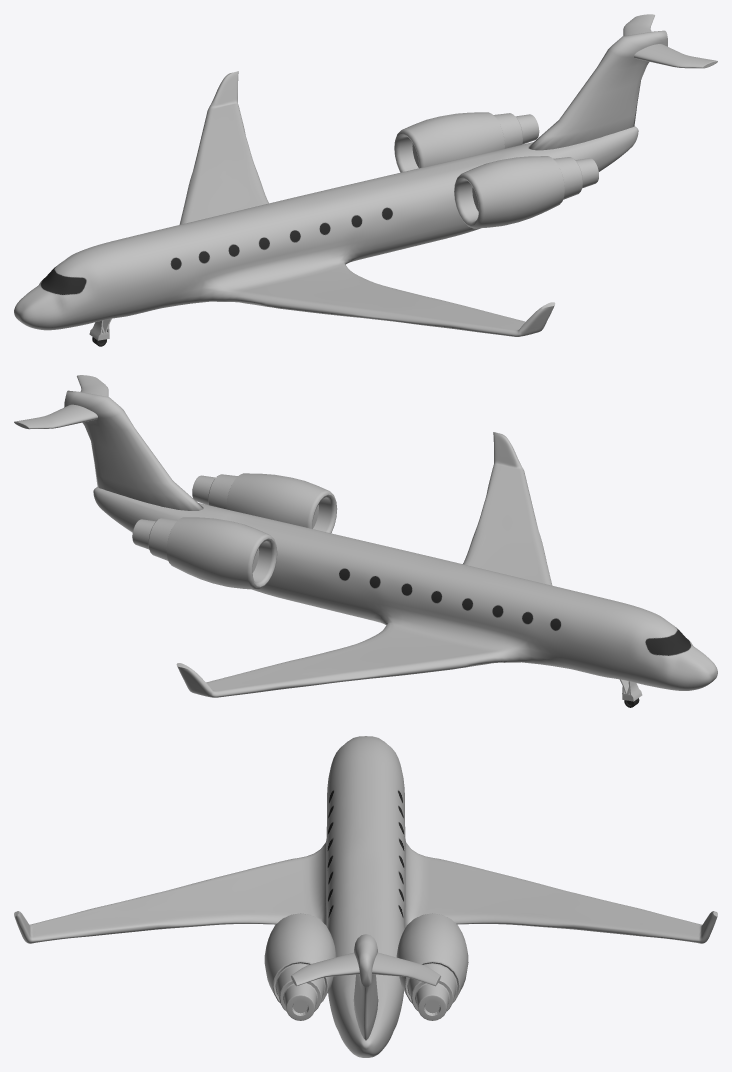
3 renders of one model, top to bottom at view 1: azimuth 30°, elevation 25°; view 2: azimuth 150°, elevation 25°; view 3: azimuth 270°, elevation 25°, orthographic. The views are drawn at different scales.
Visible parts, largest first — view 1: group5_polySurface1; view 2: group5_polySurface1; view 3: group5_polySurface1.
Part boxes in pixels (x1,y1,x2,y2): group5_polySurface1: (14,14,717,346); group5_polySurface1: (14,375,717,707); group5_polySurface1: (14,736,717,1057).
Bounding box in the file's own units: 124 × 32 × 102.
1 material, 1 textured.
